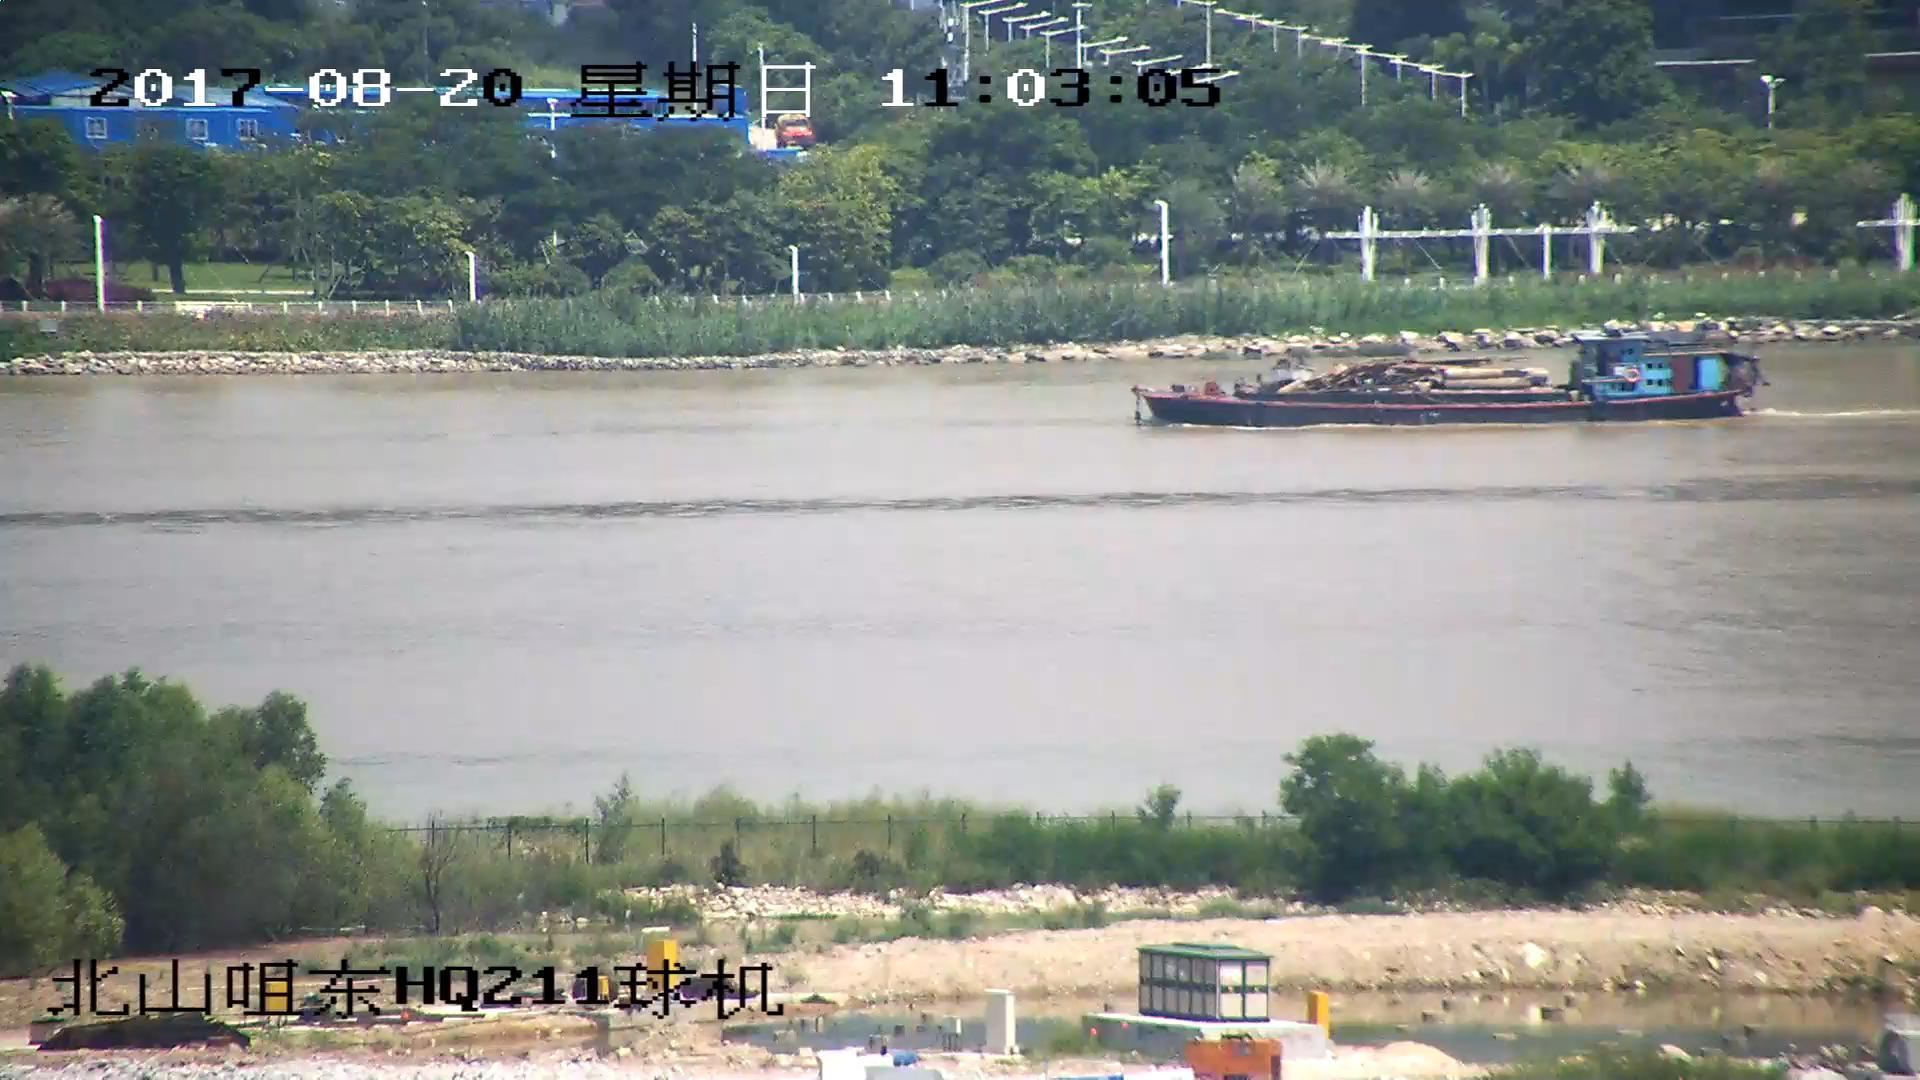Ship: (1134, 338, 1764, 429)
